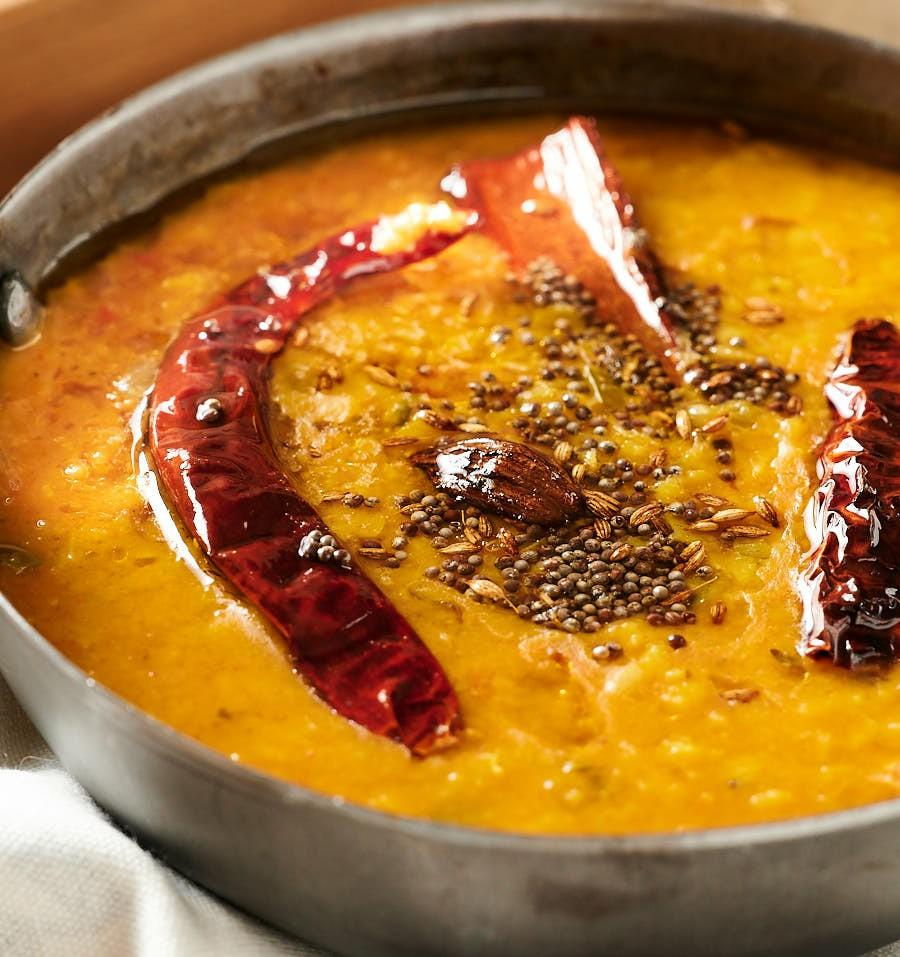Dal: (0, 94, 900, 831)
